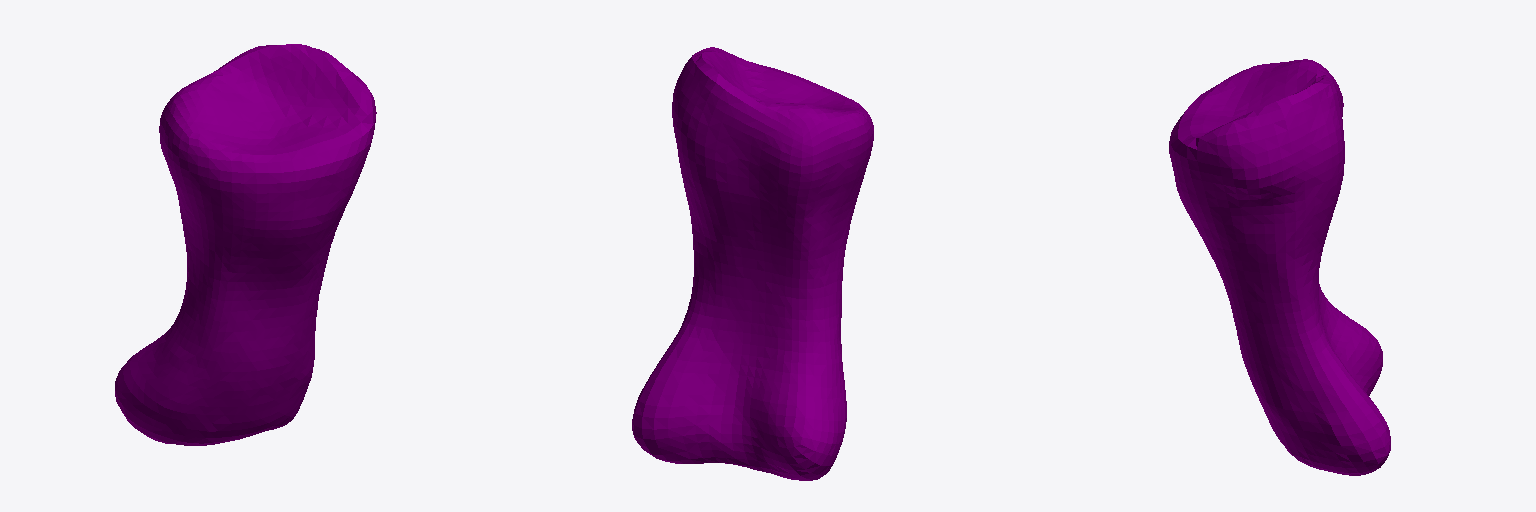
File: ProximalPhalanx_1.obj
The picture shows the model from 3 angles: view 1: azimuth 30°, elevation 25°; view 2: azimuth 150°, elevation 25°; view 3: azimuth 270°, elevation 25°; orthographic projection.
Parts seen in each view (by area): view 1: Object_0ProximalPhalanx_1; view 2: Object_0ProximalPhalanx_1; view 3: Object_0ProximalPhalanx_1.
Part boxes in pixels (left/top/right/bottom): Object_0ProximalPhalanx_1: left=115, top=44, right=376, bottom=445; Object_0ProximalPhalanx_1: left=632, top=47, right=873, bottom=480; Object_0ProximalPhalanx_1: left=1169, top=59, right=1390, bottom=475.
Bounding box in the file's own units: 21.44 × 39.24 × 20.75.